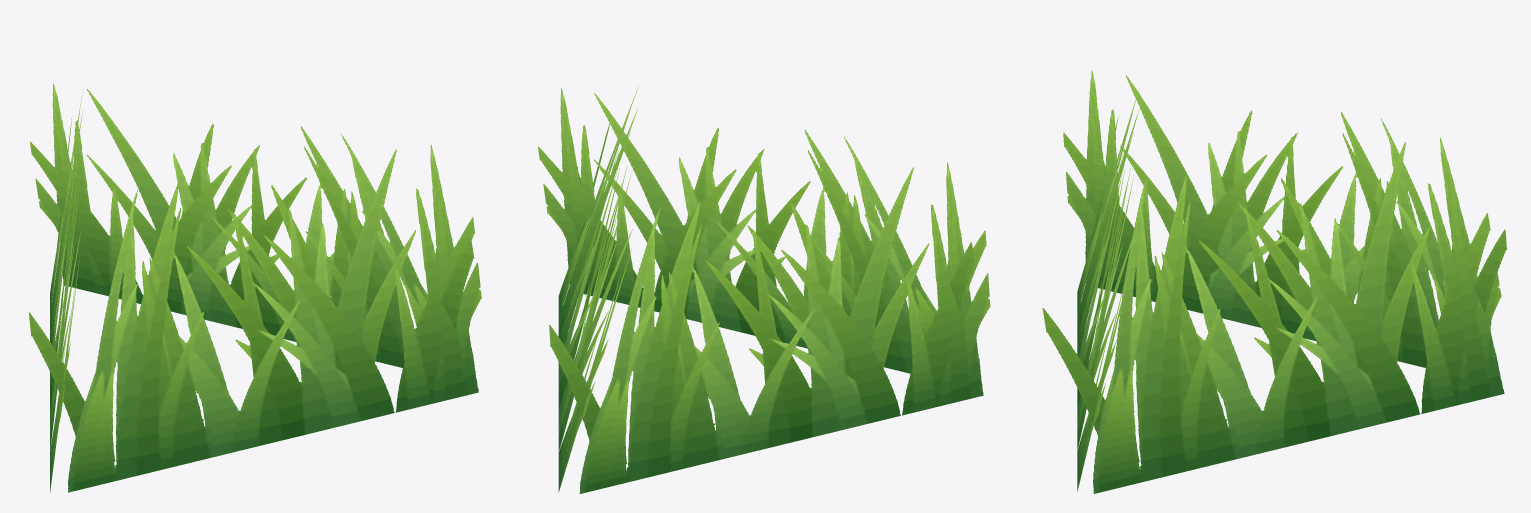
File: grass.glb
The picture shows the model from 3 angles, left to right: view 1: azimuth 30°, elevation 25°; view 2: azimuth 150°, elevation 25°; view 3: azimuth 270°, elevation 25°; orthographic projection.
Visible parts, largest first — view 1: grass; view 2: grass; view 3: grass.
Part boxes in pixels (x1,y1,x2,y2): grass: (29,83,481,492); grass: (538,86,990,493); grass: (1042,70,1506,493).
Size of the model in its own units: 2.01 by 1.18 by 1.93.
1 material, 1 textured.
